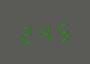five: (53, 19, 69, 42)
four: (36, 20, 52, 43)
two: (18, 21, 34, 44)
